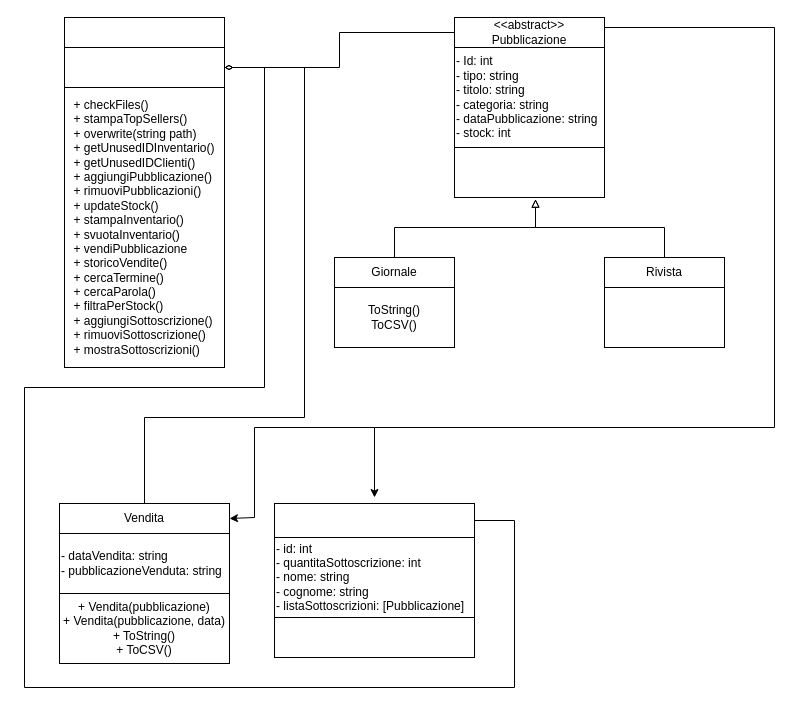
This 800x713 diagram has some shape labels left out. The box of each missing label's shape, as (x1, y1, x2, y2) in pixels:
+ ToString() +ToCSV(): (274, 616, 474, 658)
- Inventario: [Pubblicazione]: (64, 46, 224, 88)
Clienti: (274, 502, 474, 538)
Edicola: (64, 16, 224, 48)
ToString() ToCSV() ToSearch(): (454, 146, 604, 198)
